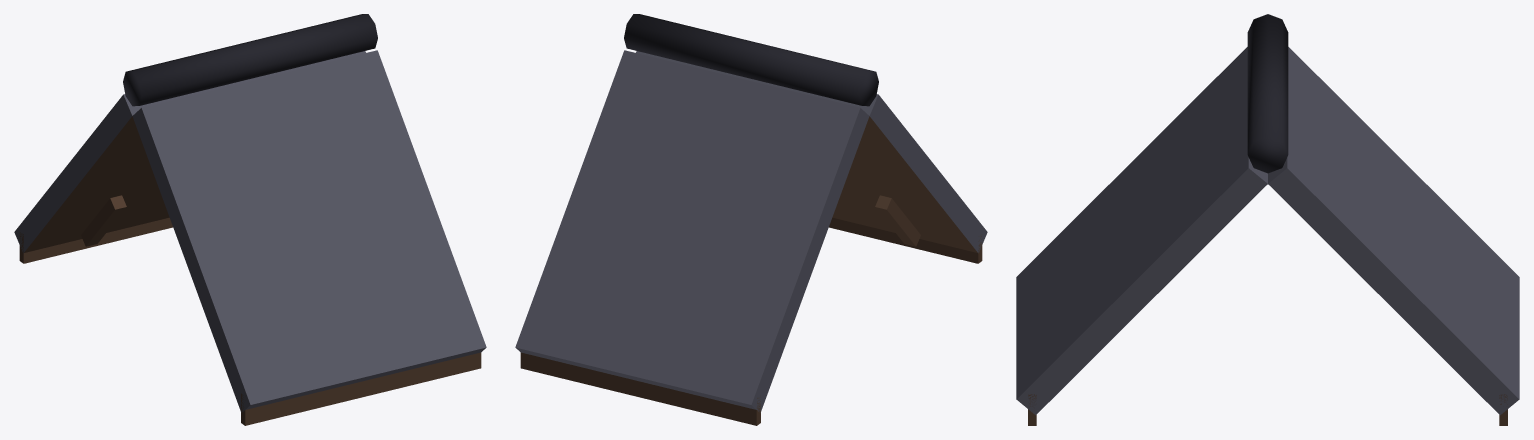
Rendered from kit_stone_slate_w1.glb.
3 renders of one model, left to right at view 1: azimuth 30°, elevation 25°; view 2: azimuth 150°, elevation 25°; view 3: azimuth 270°, elevation 25°, orthographic. The views are drawn at different scales.
Parts seen in each view (by area): view 1: kit_stone_slate_w1; view 2: kit_stone_slate_w1; view 3: kit_stone_slate_w1.
Part boxes in pixels (bbox=[...]): kit_stone_slate_w1: bbox=[14, 14, 486, 425]; kit_stone_slate_w1: bbox=[515, 14, 987, 425]; kit_stone_slate_w1: bbox=[1016, 14, 1519, 425].
Bounding box in the file's own units: 1 × 1.1 × 1.73.
